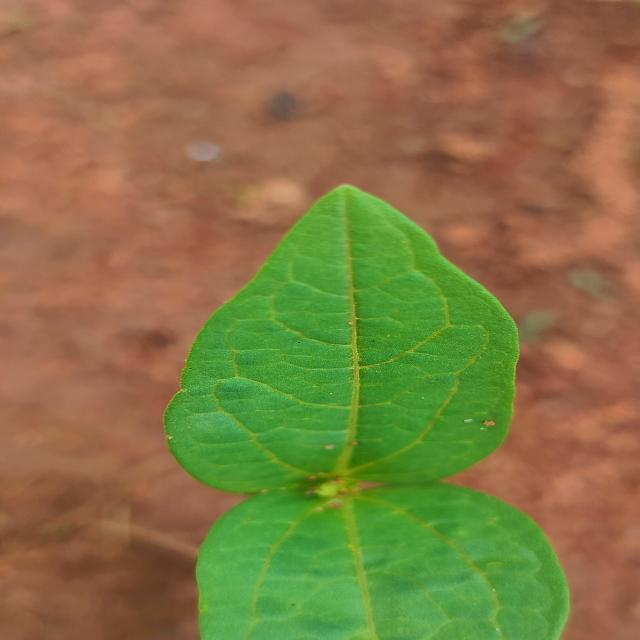Black gram_healthy: (164, 183, 525, 492), (192, 481, 570, 640)
